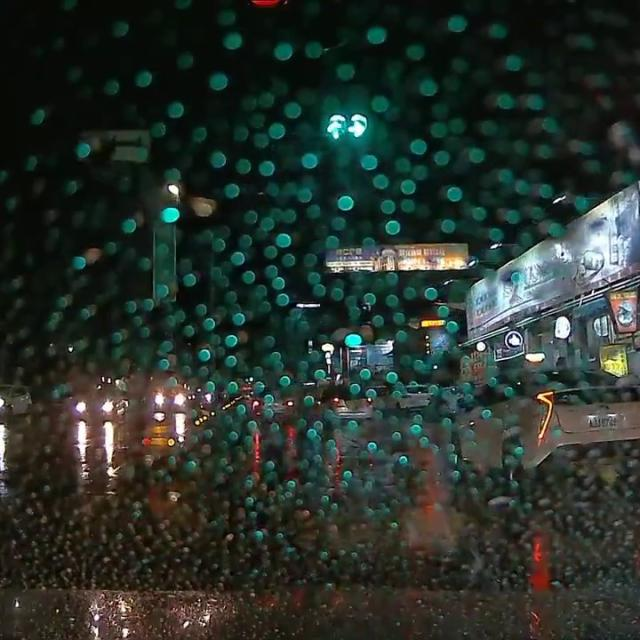Car: (446, 365, 639, 489), (314, 382, 373, 421), (249, 379, 304, 420), (74, 386, 129, 422), (382, 380, 435, 415), (0, 383, 32, 419)
